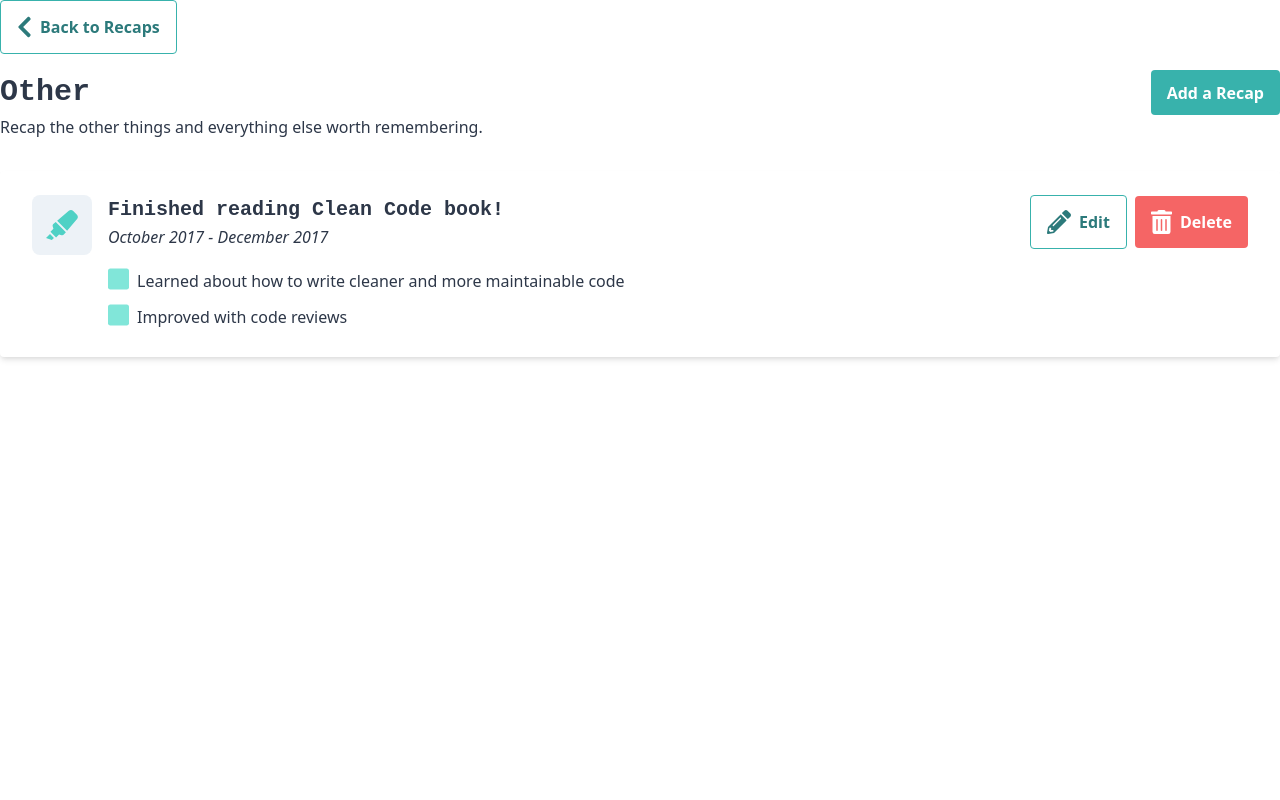
<OtherLayout /> › should show the error alert after failing to delete a recap
What coordinates should you click on to do the following:
click the button "Delete"
I would click on:
 (1192, 222)
Its box is [1135,196,1248,248].
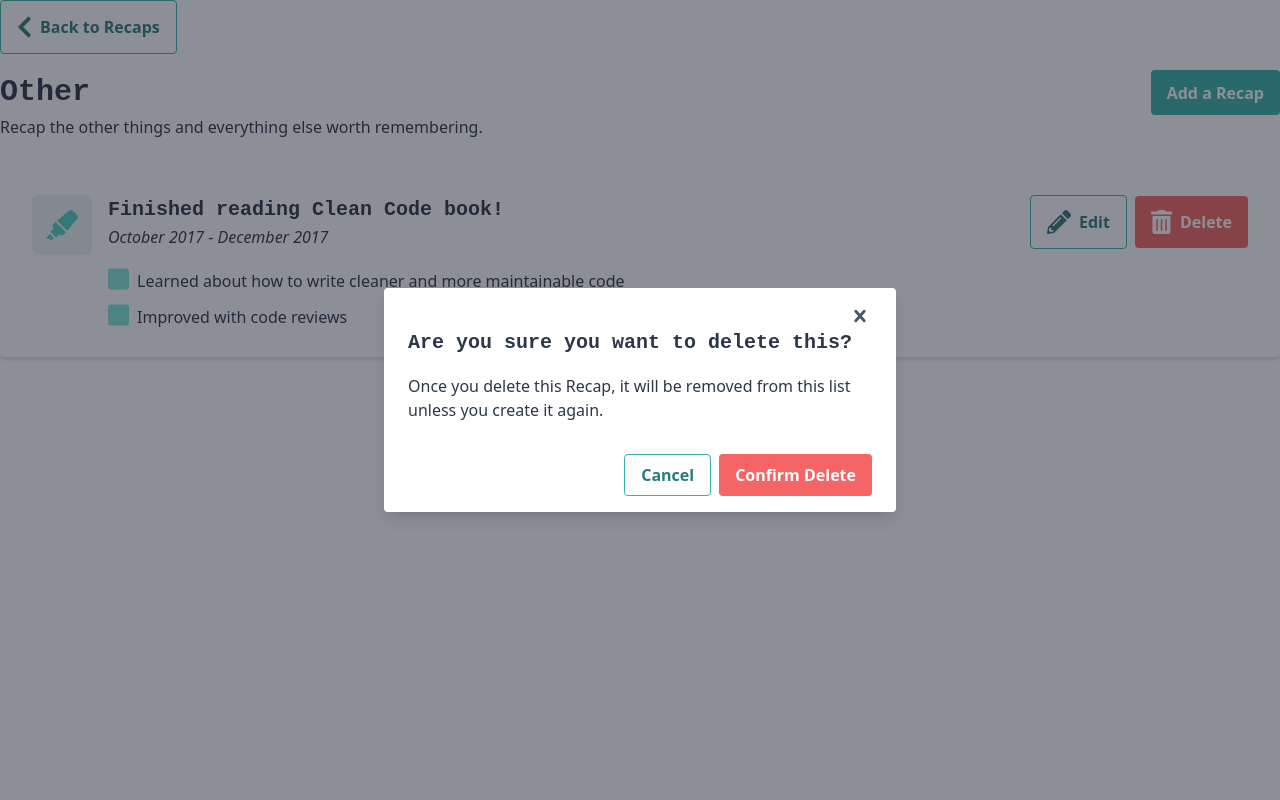
Check: the heading "Are you sure you want to delete this?" is shown, box [408,328,872,358]
What coordinates should you click on to do the following:
click the button "Confirm Delete"
I would click on:
 (796, 475)
Its box is [719,454,872,496].
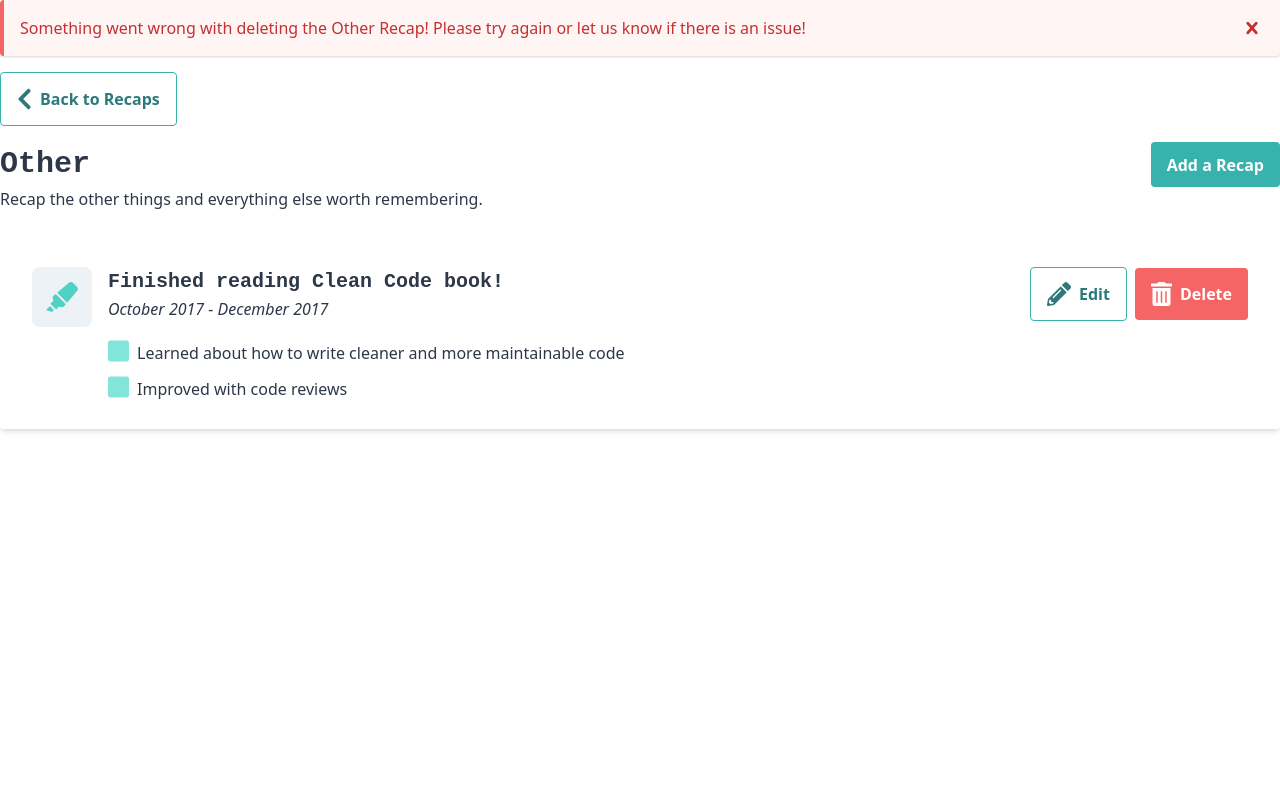
Check: the heading "Are you sure you want to delete this?" is gone
Check: the text "Something went wrong with deleting the Other Recap!" is shown, box [20,17,806,39]
